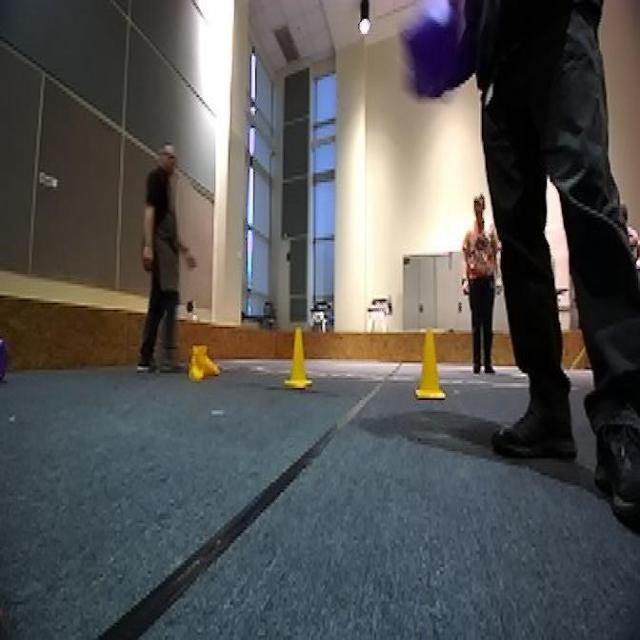frc_cone: (408, 328, 454, 398), (282, 328, 314, 386), (188, 344, 218, 379)
frc_cube: (393, 0, 461, 102), (0, 337, 11, 383)
